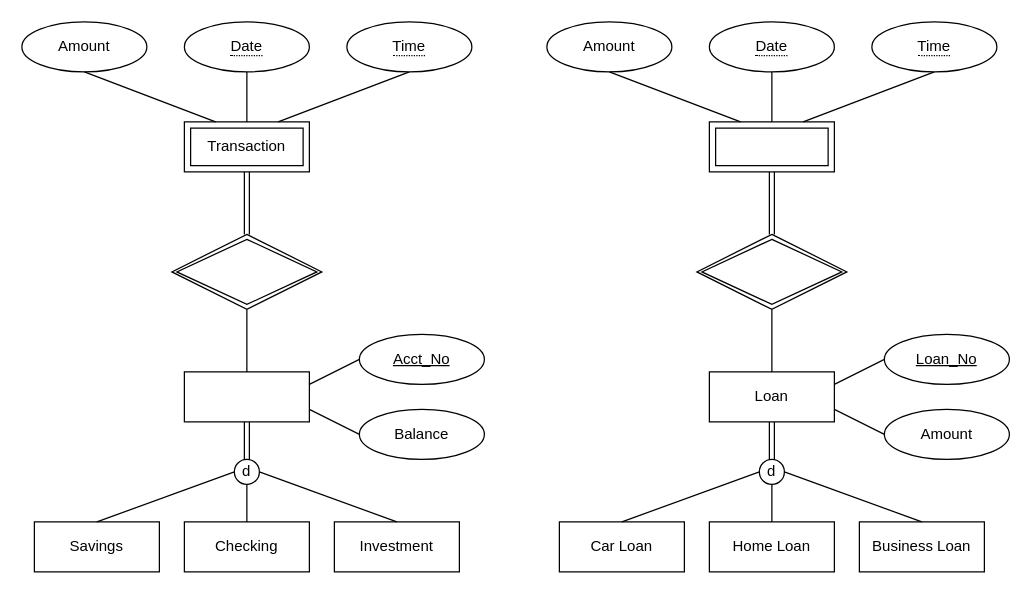
Image size: 1031x594. Some labels were removed from this diagram. Here are the shapes that lost their labels. From the top down, the centre of each, then its label:
At (x=771, y=146): "Payment".
At (x=246, y=271): "A_T".
At (x=771, y=271): "L_P".
At (x=246, y=396): "Accounts".
